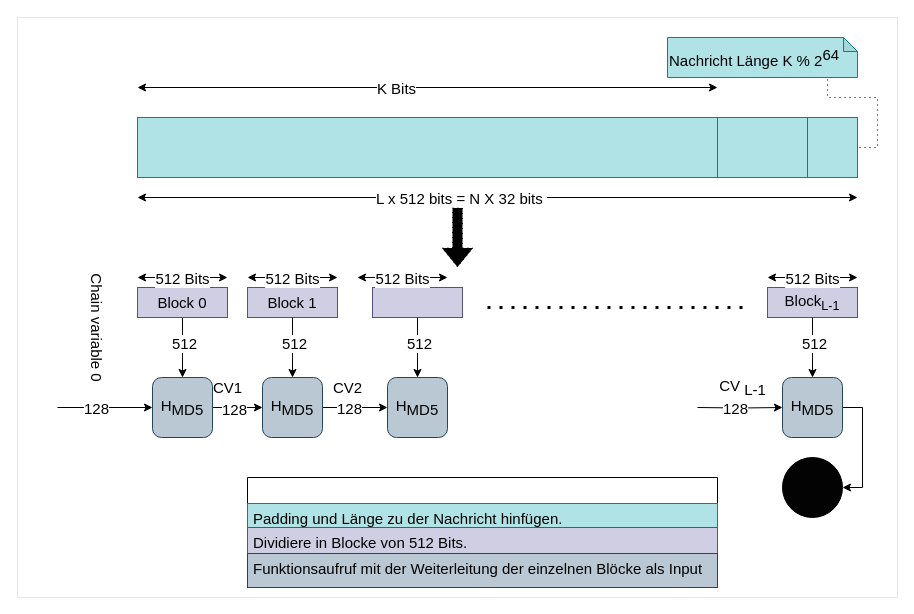
Image size: 914x614. Some labels were removed from this diagram. The shapes that lost their labels are listed below. From the top down, each one's box as (x1, y1, x2, y2) in pixels, then its label:
(136, 116, 718, 178): Nachricht
(716, 116, 808, 178): Padding (Optional)
(806, 116, 858, 178): Länge
(372, 286, 462, 318): Block 2
(782, 456, 842, 518): 128-Bit Digest
(246, 476, 718, 588): Schritten:
